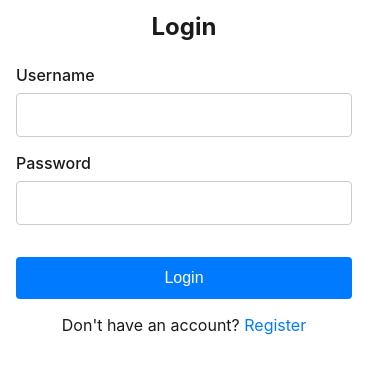
Scenario: LoginForm Component › should display validation error for empty username
What coordinates should you click on to do the following:
click the button "Login"
I would click on:
 (184, 278)
Its box is [16, 257, 352, 299].
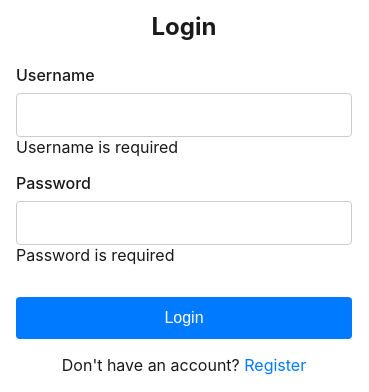
Check: the text "Username is required" is shown, box [16, 137, 178, 157]
